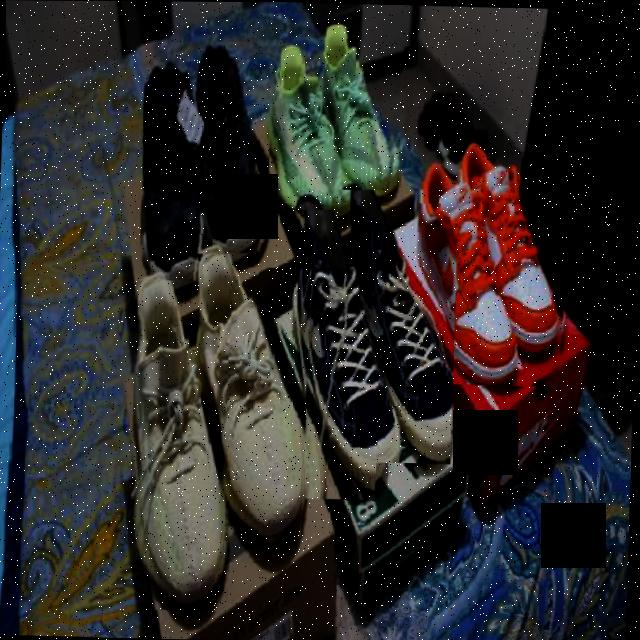shoe: (414, 138, 574, 385), (125, 277, 233, 611), (193, 265, 312, 544), (348, 201, 459, 464), (288, 220, 384, 499), (195, 58, 274, 256), (139, 68, 208, 281), (316, 28, 406, 189), (268, 62, 352, 210)
